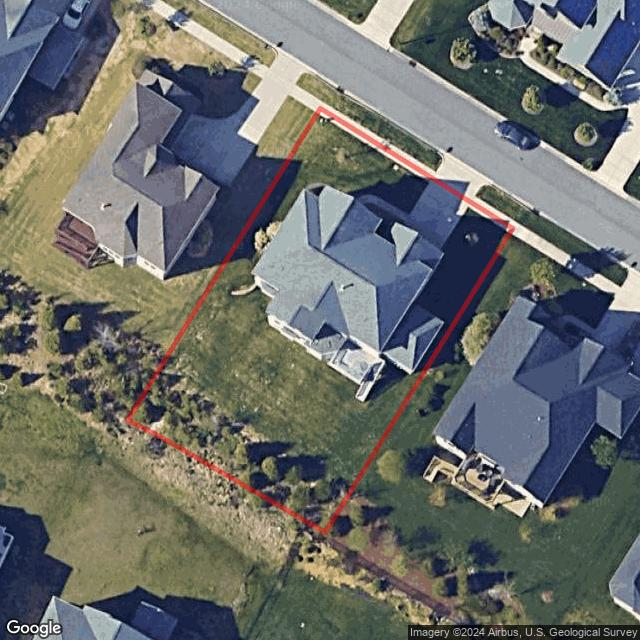Driveway: (401, 177, 473, 250), (469, 202, 513, 233)
Extra-Driveway: (432, 153, 486, 202)
Extra-Lawn: (324, 87, 447, 171), (475, 181, 528, 223)
Extra-Sidewalk: (320, 101, 437, 178), (473, 197, 518, 229)
House: (251, 184, 447, 375)
Lawn: (127, 108, 513, 532)
Other: (129, 364, 353, 532), (329, 336, 386, 404), (365, 204, 403, 235)
Sidewalk: (318, 108, 431, 182), (358, 195, 408, 220)
